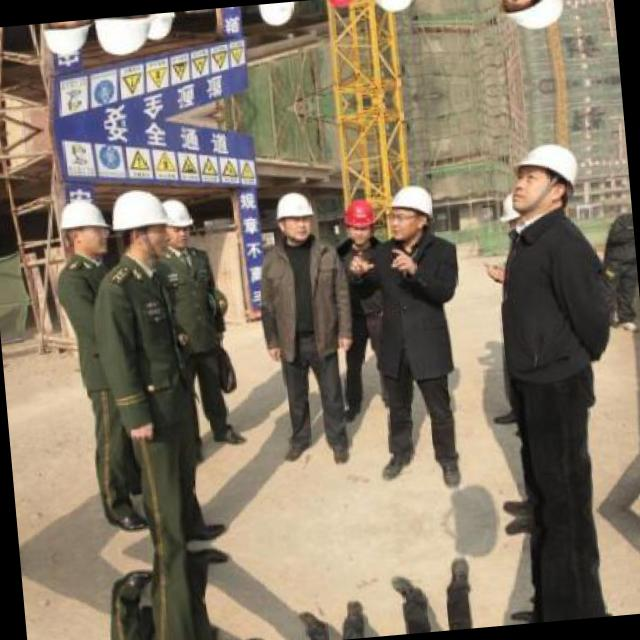helmet: (503, 131, 587, 219), (108, 180, 168, 268), (54, 192, 110, 261), (490, 0, 573, 42), (380, 180, 438, 240), (269, 184, 319, 248), (94, 14, 152, 64), (38, 19, 94, 63), (153, 192, 195, 248), (339, 195, 382, 243), (252, 1, 300, 34), (136, 12, 178, 46), (363, 0, 419, 18), (321, 0, 362, 10)
